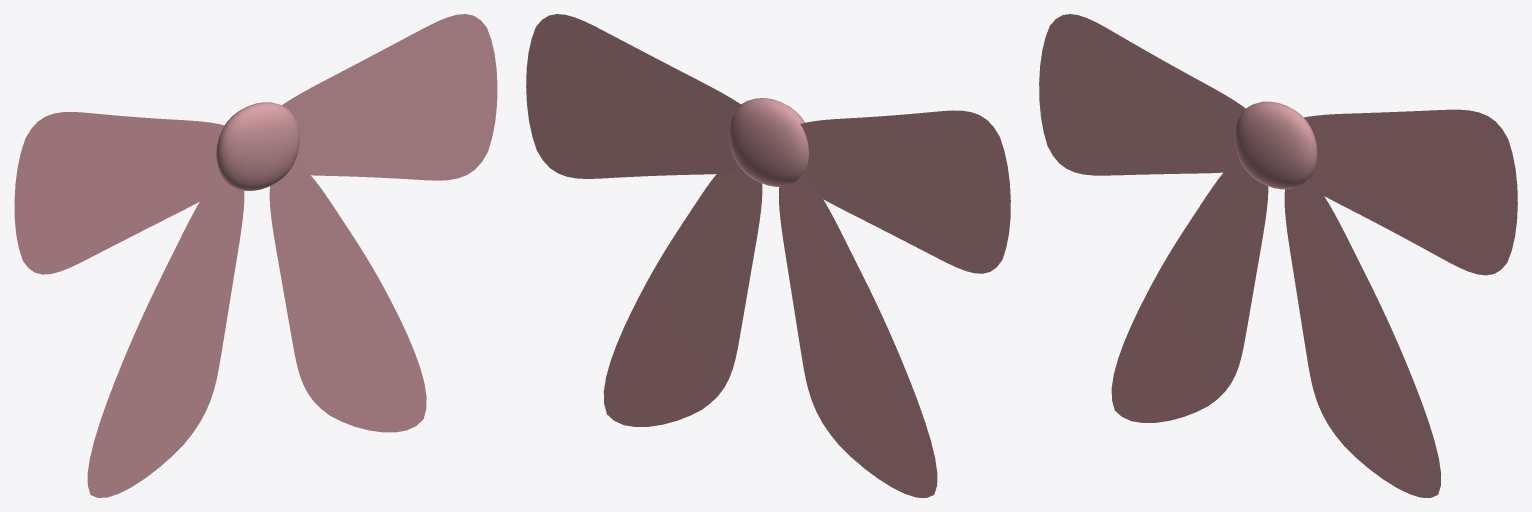
Rendered from анимация бант.glb.
The picture shows the model from 3 angles, left to right: view 1: azimuth 30°, elevation 25°; view 2: azimuth 150°, elevation 25°; view 3: azimuth 330°, elevation 25°; orthographic projection.
Visible parts, largest first — view 1: Plane.002; view 2: Plane.002; view 3: Plane.002.
Part boxes in pixels (box(x1,y1,x2,y2)): Plane.002: box(14, 14, 497, 497); Plane.002: box(526, 14, 1010, 497); Plane.002: box(1039, 14, 1517, 497).
Size of the model in its own units: 9.99 by 7.9 by 0.6807.
